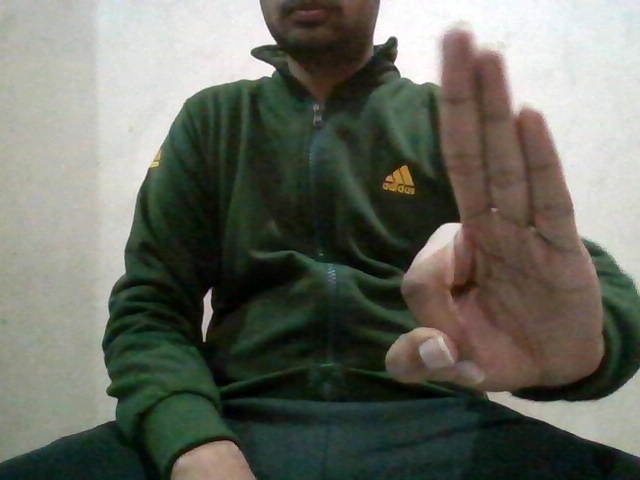F: (380, 14, 612, 399)
